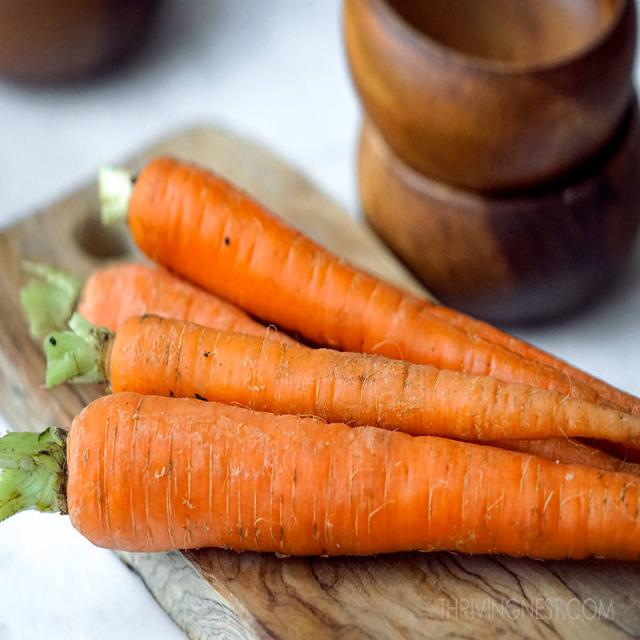Carrot: (65, 396, 640, 564)
